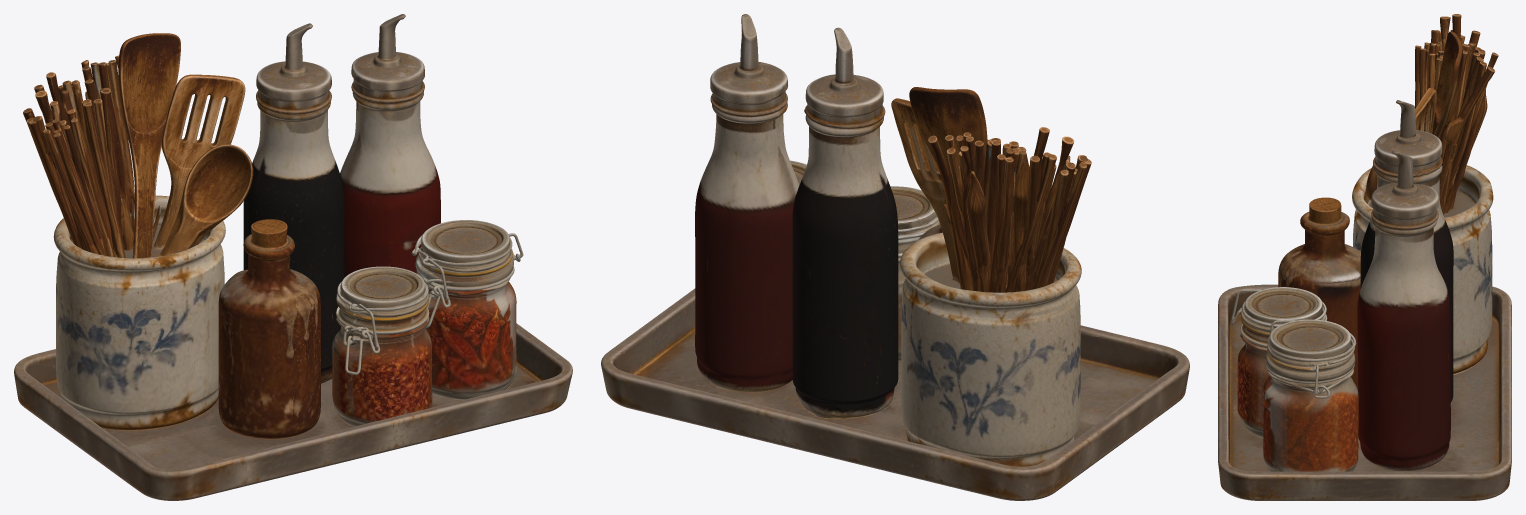
File: k_condiments.glb
3 renders of one model, left to right at view 1: azimuth 30°, elevation 25°; view 2: azimuth 150°, elevation 25°; view 3: azimuth 270°, elevation 25°, orthographic. The views are drawn at different scales.
Size of the model in its own units: 1.9 by 1.46 by 1.2.
1 material, 1 textured.
